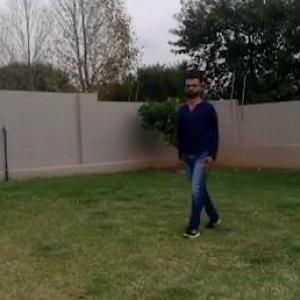follow: (179, 70, 218, 222)
